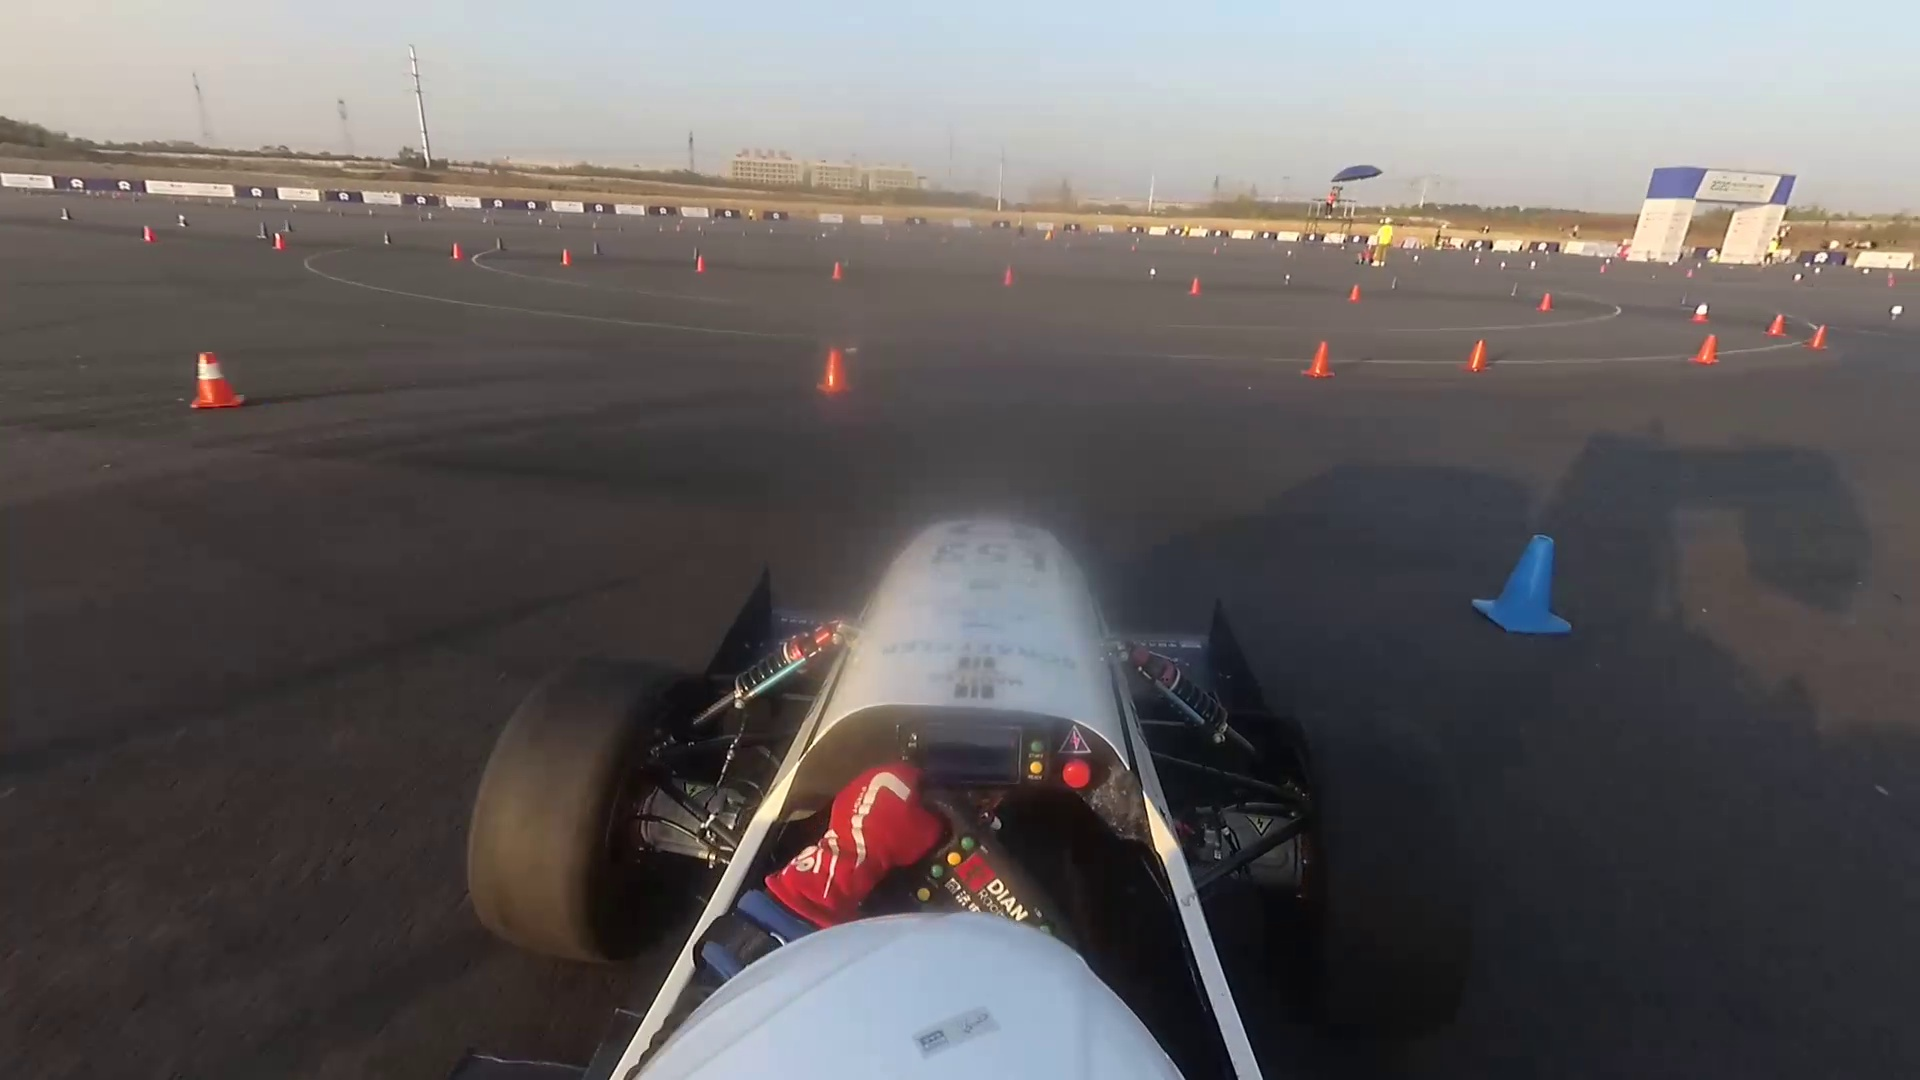blue_cone: (1468, 530, 1575, 640), (255, 222, 269, 239), (175, 214, 189, 228), (495, 237, 506, 252), (1283, 272, 1294, 287), (384, 229, 393, 247), (1147, 266, 1159, 280), (691, 247, 702, 261), (282, 219, 291, 233), (1391, 277, 1400, 291), (1511, 281, 1519, 297), (592, 241, 601, 255), (1680, 293, 1687, 306)
red_cone: (189, 353, 245, 410), (818, 349, 851, 393), (1302, 342, 1335, 382), (1462, 339, 1487, 373), (1695, 336, 1717, 365), (1766, 311, 1787, 339), (1187, 276, 1203, 297), (450, 241, 465, 260), (1346, 285, 1362, 302), (560, 249, 574, 269), (1542, 291, 1555, 311), (272, 233, 287, 249), (1004, 266, 1015, 287), (138, 225, 156, 240), (1697, 305, 1710, 323), (833, 262, 844, 280), (696, 258, 707, 272)
